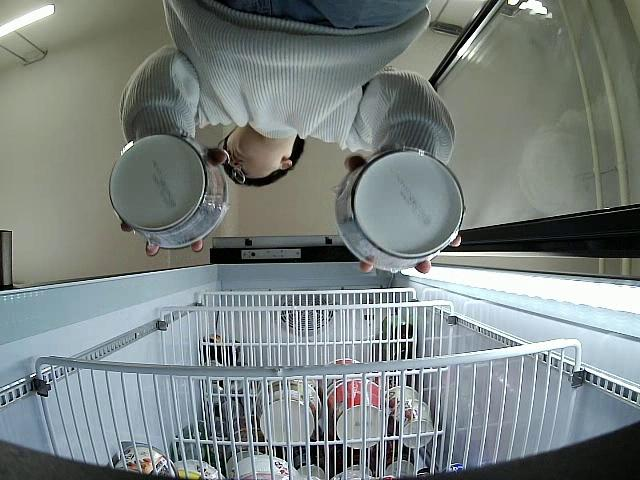00_hand: (344, 155, 466, 275), (120, 147, 229, 256)
07_buldak_L: (335, 150, 464, 272), (108, 133, 227, 249)
